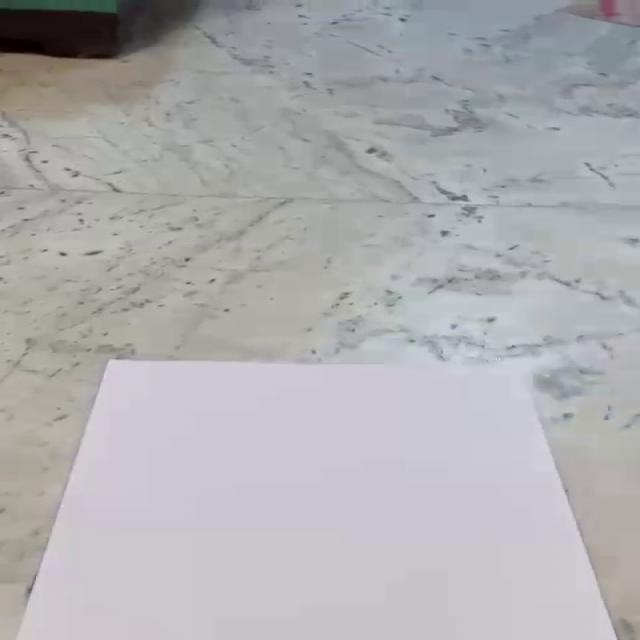road: (13, 360, 620, 640)
